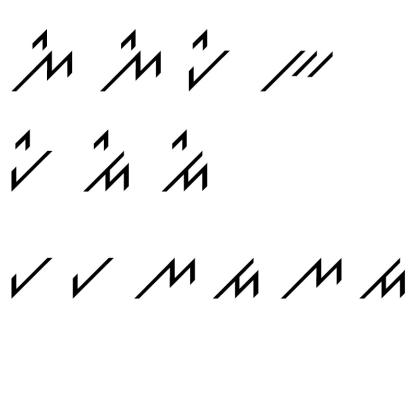da: (356, 256, 407, 306), (214, 256, 264, 302)
di: (154, 125, 217, 196), (81, 127, 132, 198)
na: (129, 250, 200, 306), (278, 250, 345, 306)
ni: (100, 26, 166, 102), (7, 27, 76, 97)
pa: (66, 252, 125, 304), (8, 250, 54, 305)
pi: (5, 127, 55, 191), (184, 27, 231, 94)
